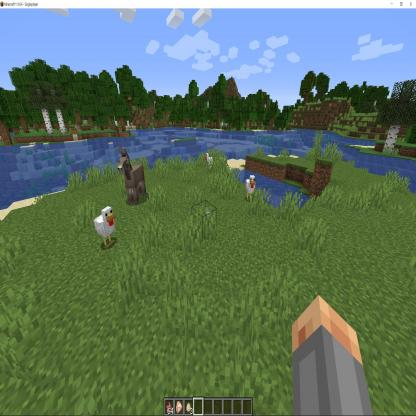minecraft-pigs: (197, 174, 233, 240)
